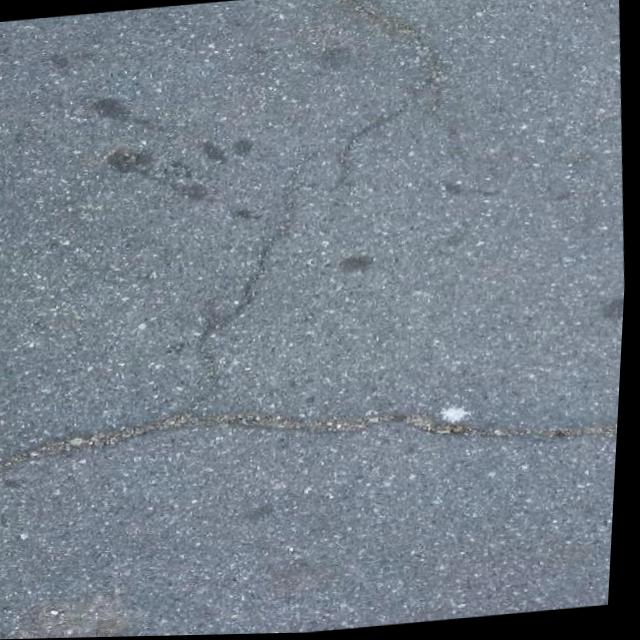Crack: (0, 359, 625, 503)
